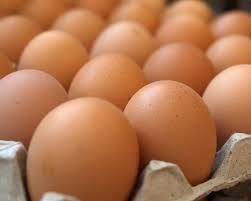egg: (24, 96, 138, 200), (123, 80, 219, 184), (0, 69, 68, 143), (70, 48, 148, 100), (12, 28, 86, 77), (204, 64, 251, 137), (142, 41, 209, 87), (88, 20, 150, 64)
